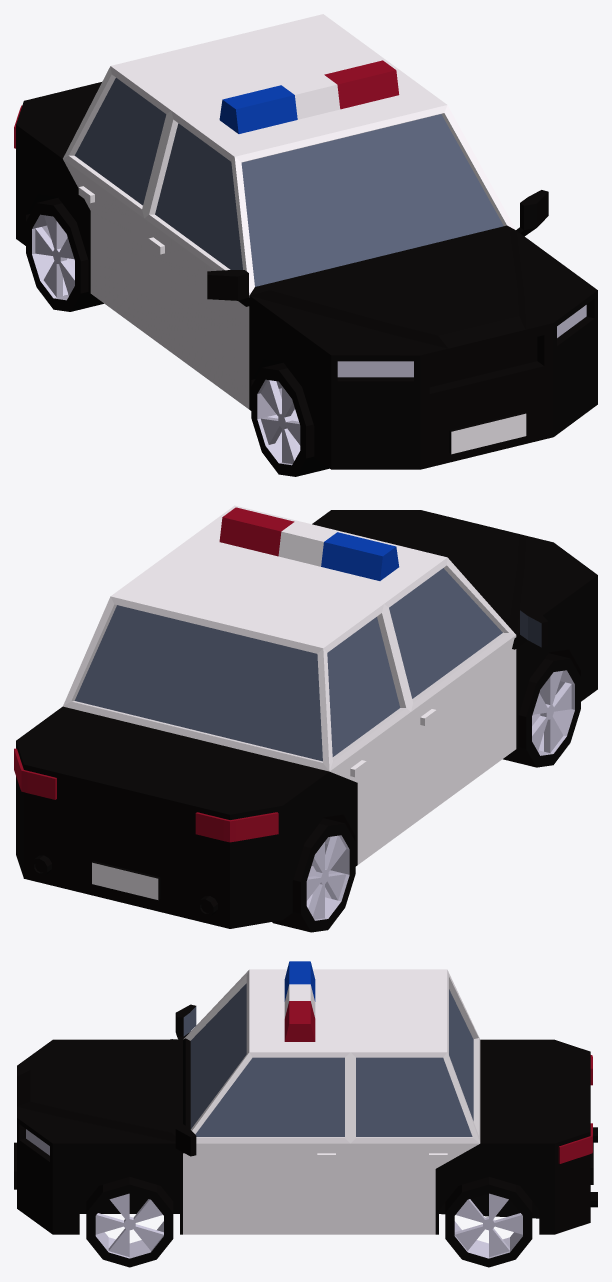
Rendered from police-sedan.glb.
The picture shows the model from 3 angles, top to bottom: view 1: azimuth 30°, elevation 25°; view 2: azimuth 150°, elevation 25°; view 3: azimuth 270°, elevation 25°; orthographic projection. The views are drawn at different scales.
Parts seen in each view (by area): view 1: body, wheel-front-right, wheel-back-right; view 2: body, wheel-back-right, wheel-front-right; view 3: body, wheel-front-left, wheel-back-left.
Part boxes in pixels (x1,y1,x2,y2): body: (14, 14, 597, 469); wheel-front-right: (251, 362, 329, 476); wheel-back-right: (26, 198, 103, 311); body: (14, 505, 597, 928); wheel-back-right: (272, 818, 355, 932); wheel-front-right: (503, 653, 580, 767); body: (14, 961, 597, 1234); wheel-front-left: (86, 1177, 173, 1267); wheel-back-left: (445, 1177, 532, 1267).
Bounding box in the file's own units: 2.11 × 1.64 × 3.92.
